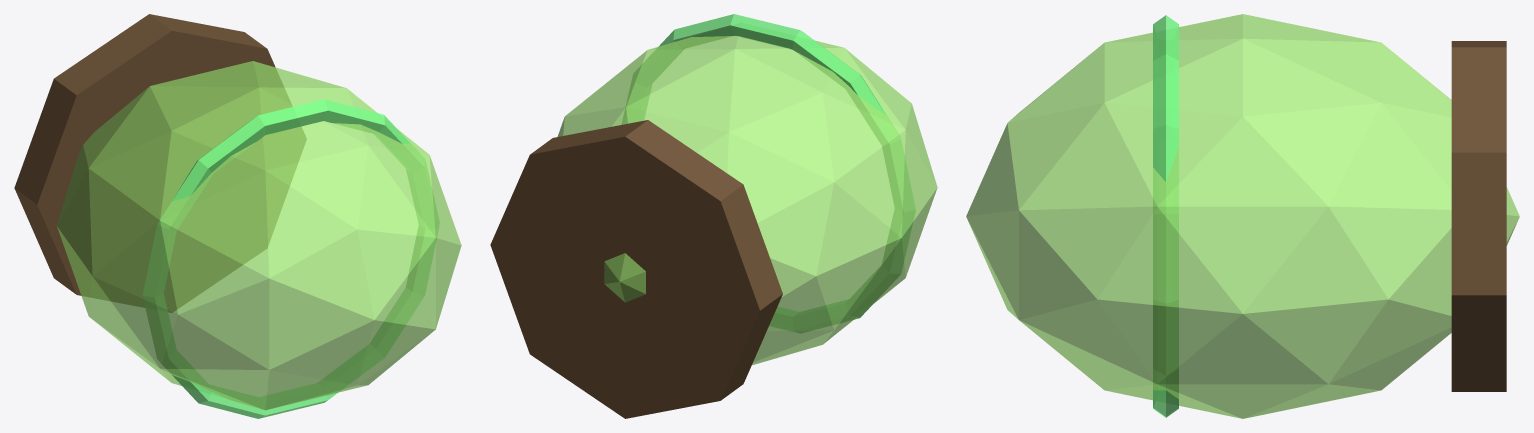
File: swamp_slime_pod.glb
3 renders of one model, left to right at view 1: azimuth 30°, elevation 25°; view 2: azimuth 150°, elevation 25°; view 3: azimuth 270°, elevation 25°, orthographic. The views are drawn at different scales.
Parts seen in each view (by area): view 1: pod, root_base, membrane_ring; view 2: root_base, pod, membrane_ring; view 3: pod, root_base, membrane_ring.
Boxes of the visible parts, box(x1,y1,x2,y2) form: pod: box(57, 61, 461, 410); root_base: box(14, 14, 306, 312); membrane_ring: box(143, 99, 439, 418); root_base: box(490, 120, 782, 418); pod: box(557, 35, 937, 365); membrane_ring: box(622, 14, 915, 332); pod: box(966, 14, 1519, 418); root_base: box(1451, 41, 1506, 391); membrane_ring: box(1153, 15, 1178, 417).
Size of the model in its own units: 0.84 by 0.7312 by 1.01.
